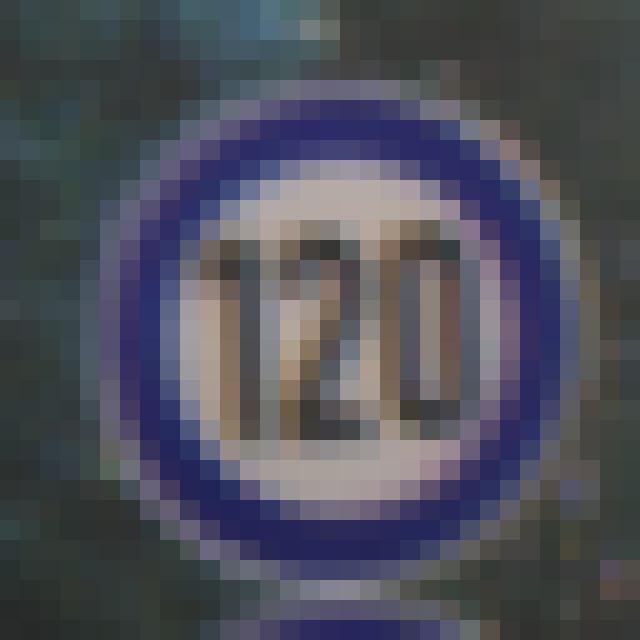SPEED LIMIT 120: (71, 77, 605, 584)
